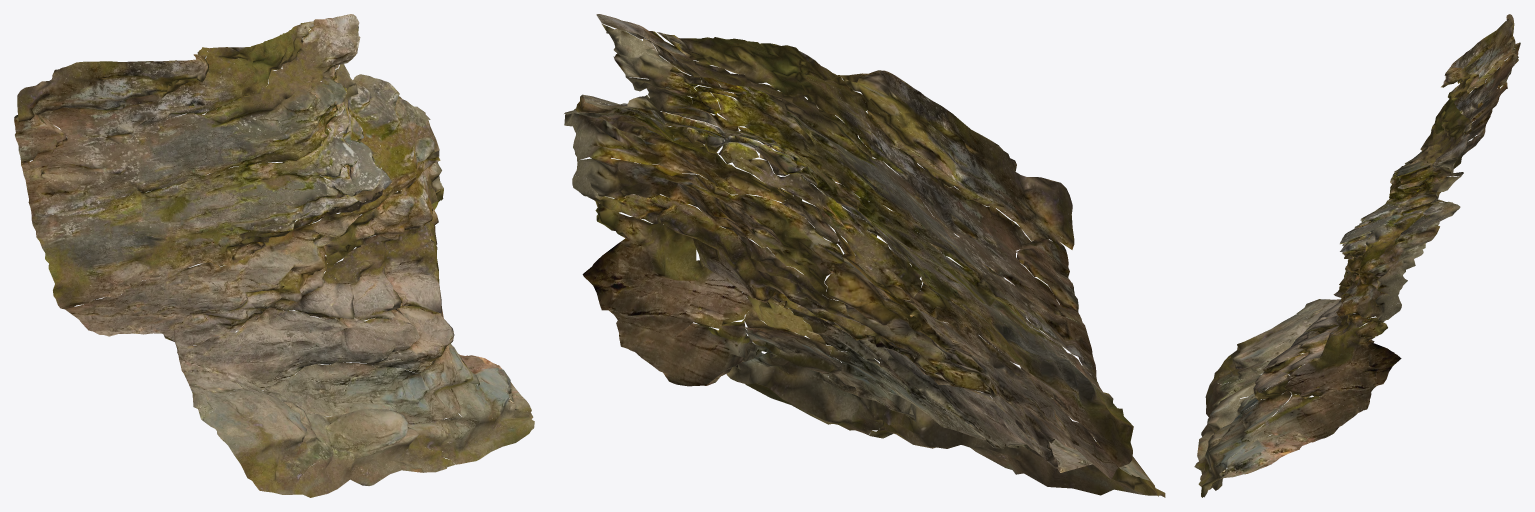
File: rock_face_02.glb
The picture shows the model from 3 angles, left to right: view 1: azimuth 30°, elevation 25°; view 2: azimuth 150°, elevation 25°; view 3: azimuth 270°, elevation 25°; orthographic projection. The views are drawn at different scales.
Parts seen in each view (by area): view 1: rockface_b; view 2: rockface_b; view 3: rockface_b.
Boxes of the visible parts, x1,y1,x2,y2 form: rockface_b: (14,14,534,497); rockface_b: (564,14,1165,497); rockface_b: (1194,14,1520,497).
Bounding box in the file's own units: 2.71 × 2.48 × 2.13.
Materials: 1 (1 with a texture image).
